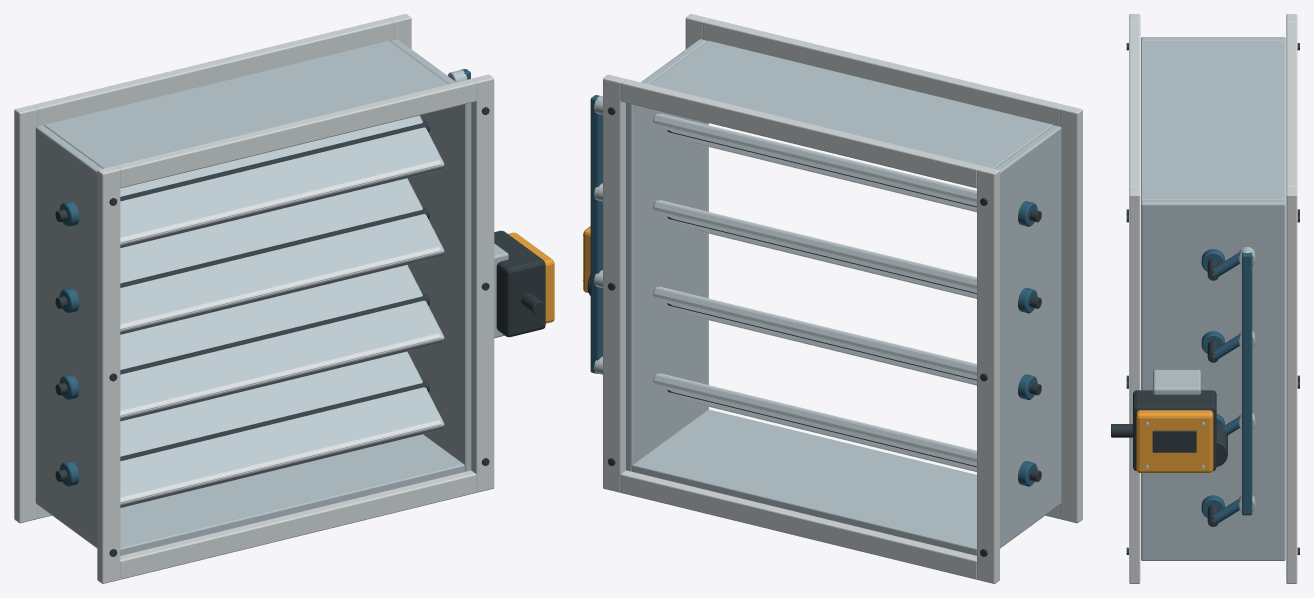
File: city-multiblade-duct-damper.glb
The picture shows the model from 3 angles, left to right: view 1: azimuth 30°, elevation 25°; view 2: azimuth 150°, elevation 25°; view 3: azimuth 270°, elevation 25°; orthographic projection. The views are drawn at different scales.
Parts seen in each view (by area): view 1: Assembly | Satin galvanized appearance steel, Assembly | Light formed aluminum, Assembly | Graphite mechanical fittings, Assembly | Deep blue powder coat, Assembly | Amber actuator cover; view 2: Assembly | Satin galvanized appearance steel, Assembly | Light formed aluminum, Assembly | Deep blue powder coat, Assembly | Graphite mechanical fittings; view 3: Assembly | Satin galvanized appearance steel, Assembly | Light formed aluminum, Assembly | Deep blue powder coat, Assembly | Graphite mechanical fittings, Assembly | Amber actuator cover.
Part boxes in pixels (left/top/right/bottom): Assembly | Satin galvanized appearance steel: left=35, top=39, right=508, bottom=555; Assembly | Light formed aluminum: left=14, top=14, right=494, bottom=583; Assembly | Graphite mechanical fittings: left=55, top=107, right=545, bottom=556; Assembly | Deep blue powder coat: left=59, top=69, right=470, bottom=486; Assembly | Amber actuator cover: left=508, top=232, right=554, bottom=323; Assembly | Satin galvanized appearance steel: left=583, top=39, right=1061, bottom=555; Assembly | Light formed aluminum: left=603, top=14, right=1082, bottom=583; Assembly | Deep blue powder coat: left=590, top=95, right=1037, bottom=486; Assembly | Graphite mechanical fittings: left=587, top=107, right=1041, bottom=556; Assembly | Satin galvanized appearance steel: left=1141, top=37, right=1285, bottom=560; Assembly | Light formed aluminum: left=1129, top=14, right=1297, bottom=583; Assembly | Deep blue powder coat: left=1201, top=249, right=1252, bottom=523; Assembly | Graphite mechanical fittings: left=1111, top=43, right=1299, bottom=554; Assembly | Amber actuator cover: left=1136, top=410, right=1213, bottom=472.
Size of the model in its own units: 1.3 by 1.11 by 0.486.
